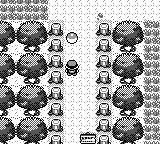captura: (144, 21, 158, 143), (1, 0, 48, 20)
leer: (80, 133, 96, 143)
main: (66, 61, 80, 75)
no-caminable: (0, 21, 48, 143), (112, 21, 143, 143), (48, 20, 64, 143), (96, 22, 111, 143)
poke-ball: (66, 32, 78, 44)
